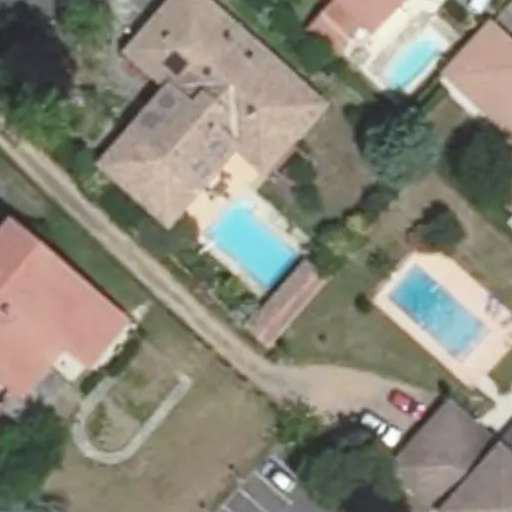pool: (209, 230, 302, 253)
